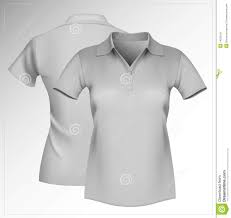S_polo shirt: (59, 35, 203, 207)
